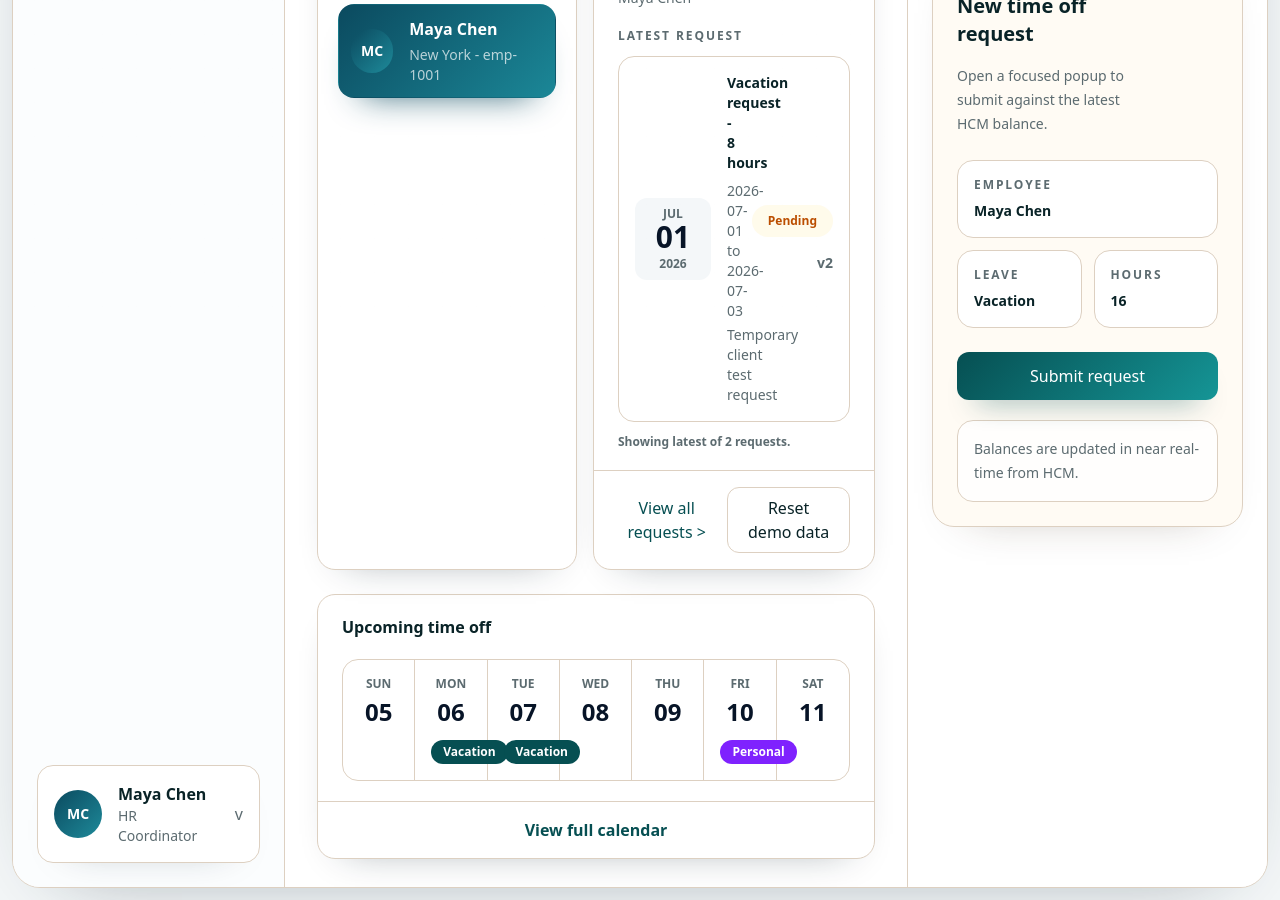
Scenario: EmployeeView › resets demo HCM data and refreshes visible requests
The image size is (1280, 900).
(page scrolled)
expect the text "Temporary client test request" is shown: met, box left=727, top=325, right=736, bottom=405
Click the button "Reset demo data" at (789, 520), box left=727, top=487, right=850, bottom=553
(page scrolled)
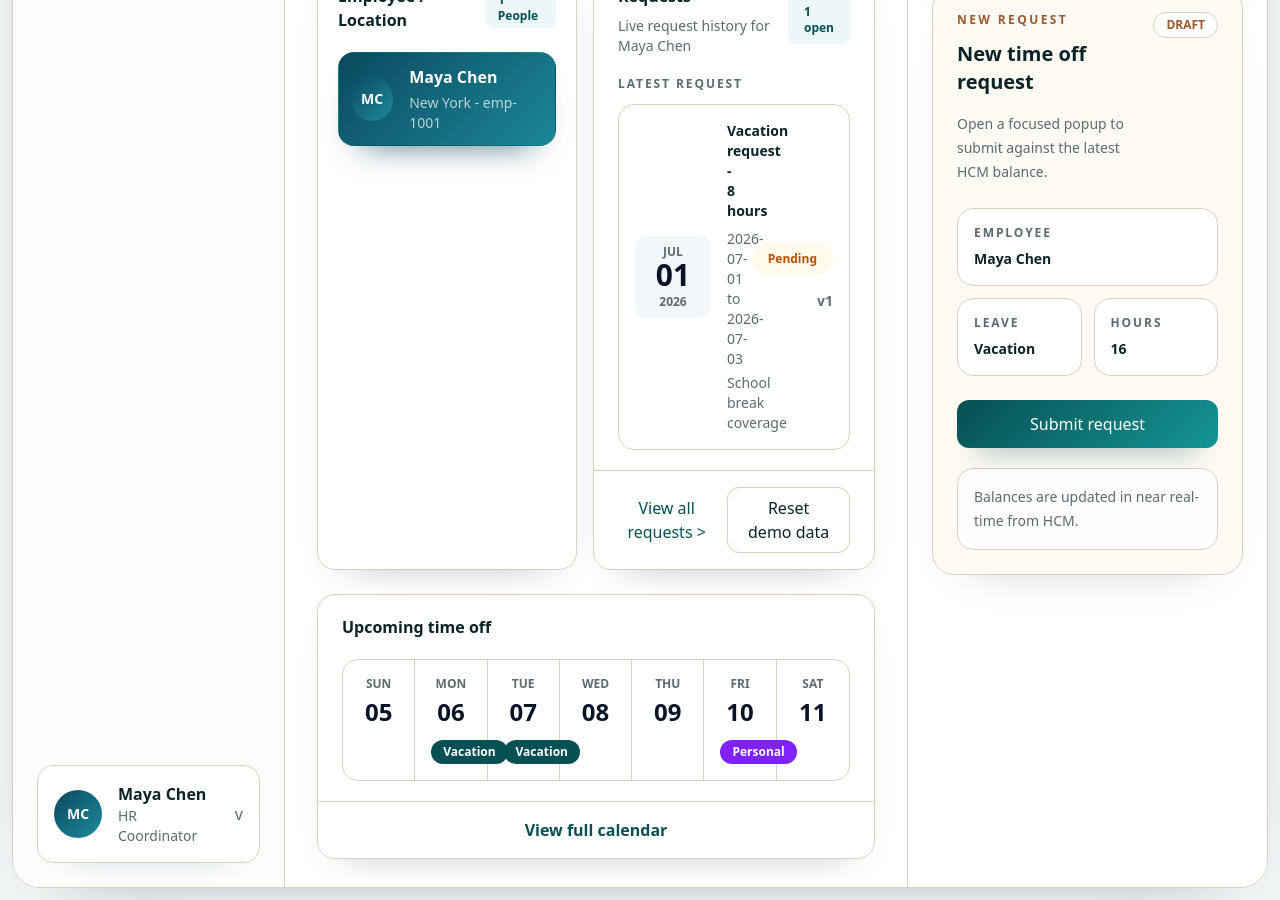
expect the text "School break coverage" is shown: met, box left=727, top=373, right=736, bottom=433
expect the text "Temporary client test request" is gone: met
